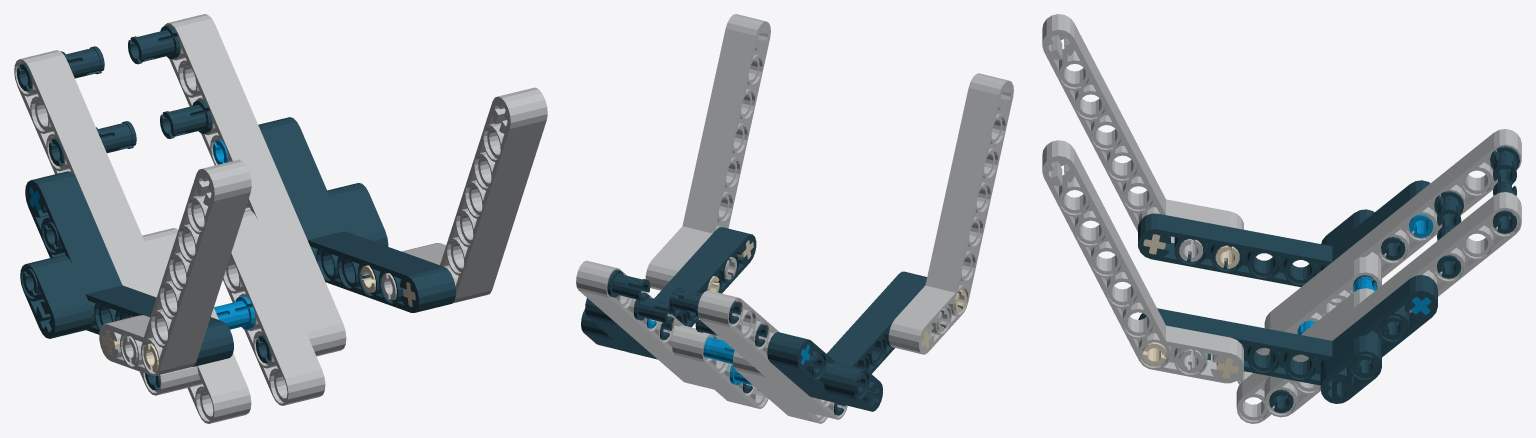
The model's file is hackev_arm.dae.
3 views of the same model, side by side, from view 1: azimuth 30°, elevation 25°; view 2: azimuth 150°, elevation 25°; view 3: azimuth 270°, elevation 25° (orthographic). The views are drawn at different scales.
Parts seen in each view (by area): view 1: Piece091, Piece008, Piece090, Piece009, Piece086, Piece004, Piece012, Piece017, Piece001, Piece083, Piece092, Piece093 (+3 smaller); view 2: Piece008, Piece090, Piece004, Piece086, Piece009, Piece091, Piece012, Piece001, Piece017, Piece092, Piece010, Piece093 (+2 smaller); view 3: Piece090, Piece008, Piece004, Piece086, Piece009, Piece091, Piece017, Piece083, Piece012, Piece010, Piece011, Piece092 (+10 smaller).
Part boxes in pixels (left/top/right/bottom): Piece091: left=164, top=14, right=346, bottom=356; Piece008: left=99, top=159, right=251, bottom=376; Piece090: left=402, top=87, right=547, bottom=303; Piece009: left=14, top=50, right=198, bottom=395; Piece086: left=258, top=117, right=455, bottom=312; Piece004: left=25, top=171, right=233, bottom=366; Piece012: left=223, top=210, right=325, bottom=405; Piece017: left=142, top=228, right=251, bottom=423; Piece001: left=20, top=255, right=92, bottom=338; Piece083: left=327, top=183, right=388, bottom=246; Piece092: left=128, top=25, right=180, bottom=64; Piece093: left=160, top=100, right=212, bottom=138; Piece008: left=888, top=73, right=1013, bottom=354; Piece090: left=645, top=14, right=770, bottom=290; Piece004: left=767, top=271, right=926, bottom=404; Piece086: left=585, top=227, right=756, bottom=359; Piece009: left=697, top=290, right=847, bottom=419; Piece091: left=576, top=260, right=713, bottom=389; Piece012: left=672, top=325, right=768, bottom=408; Piece001: left=824, top=362, right=882, bottom=411; Piece017: left=733, top=350, right=827, bottom=423; Piece092: left=607, top=269, right=650, bottom=301; Piece010: left=669, top=287, right=741, bottom=323; Piece093: left=633, top=292, right=676, bottom=324; Piece090: left=1042, top=140, right=1243, bottom=383; Piece008: left=1042, top=14, right=1243, bottom=243; Piece004: left=1138, top=180, right=1430, bottom=287; Piece086: left=1138, top=275, right=1437, bottom=385; Piece009: left=1264, top=129, right=1521, bottom=328; Piece091: left=1264, top=192, right=1521, bottom=417; Piece017: left=1237, top=256, right=1381, bottom=384; Piece083: left=1320, top=335, right=1381, bottom=403; Piece012: left=1236, top=288, right=1374, bottom=423; Piece010: left=1490, top=146, right=1519, bottom=183; Piece011: left=1434, top=191, right=1463, bottom=227; Piece092: left=1493, top=180, right=1516, bottom=233.
Size of the model in its own units: 0.072 by 0.1028 by 0.0746.
